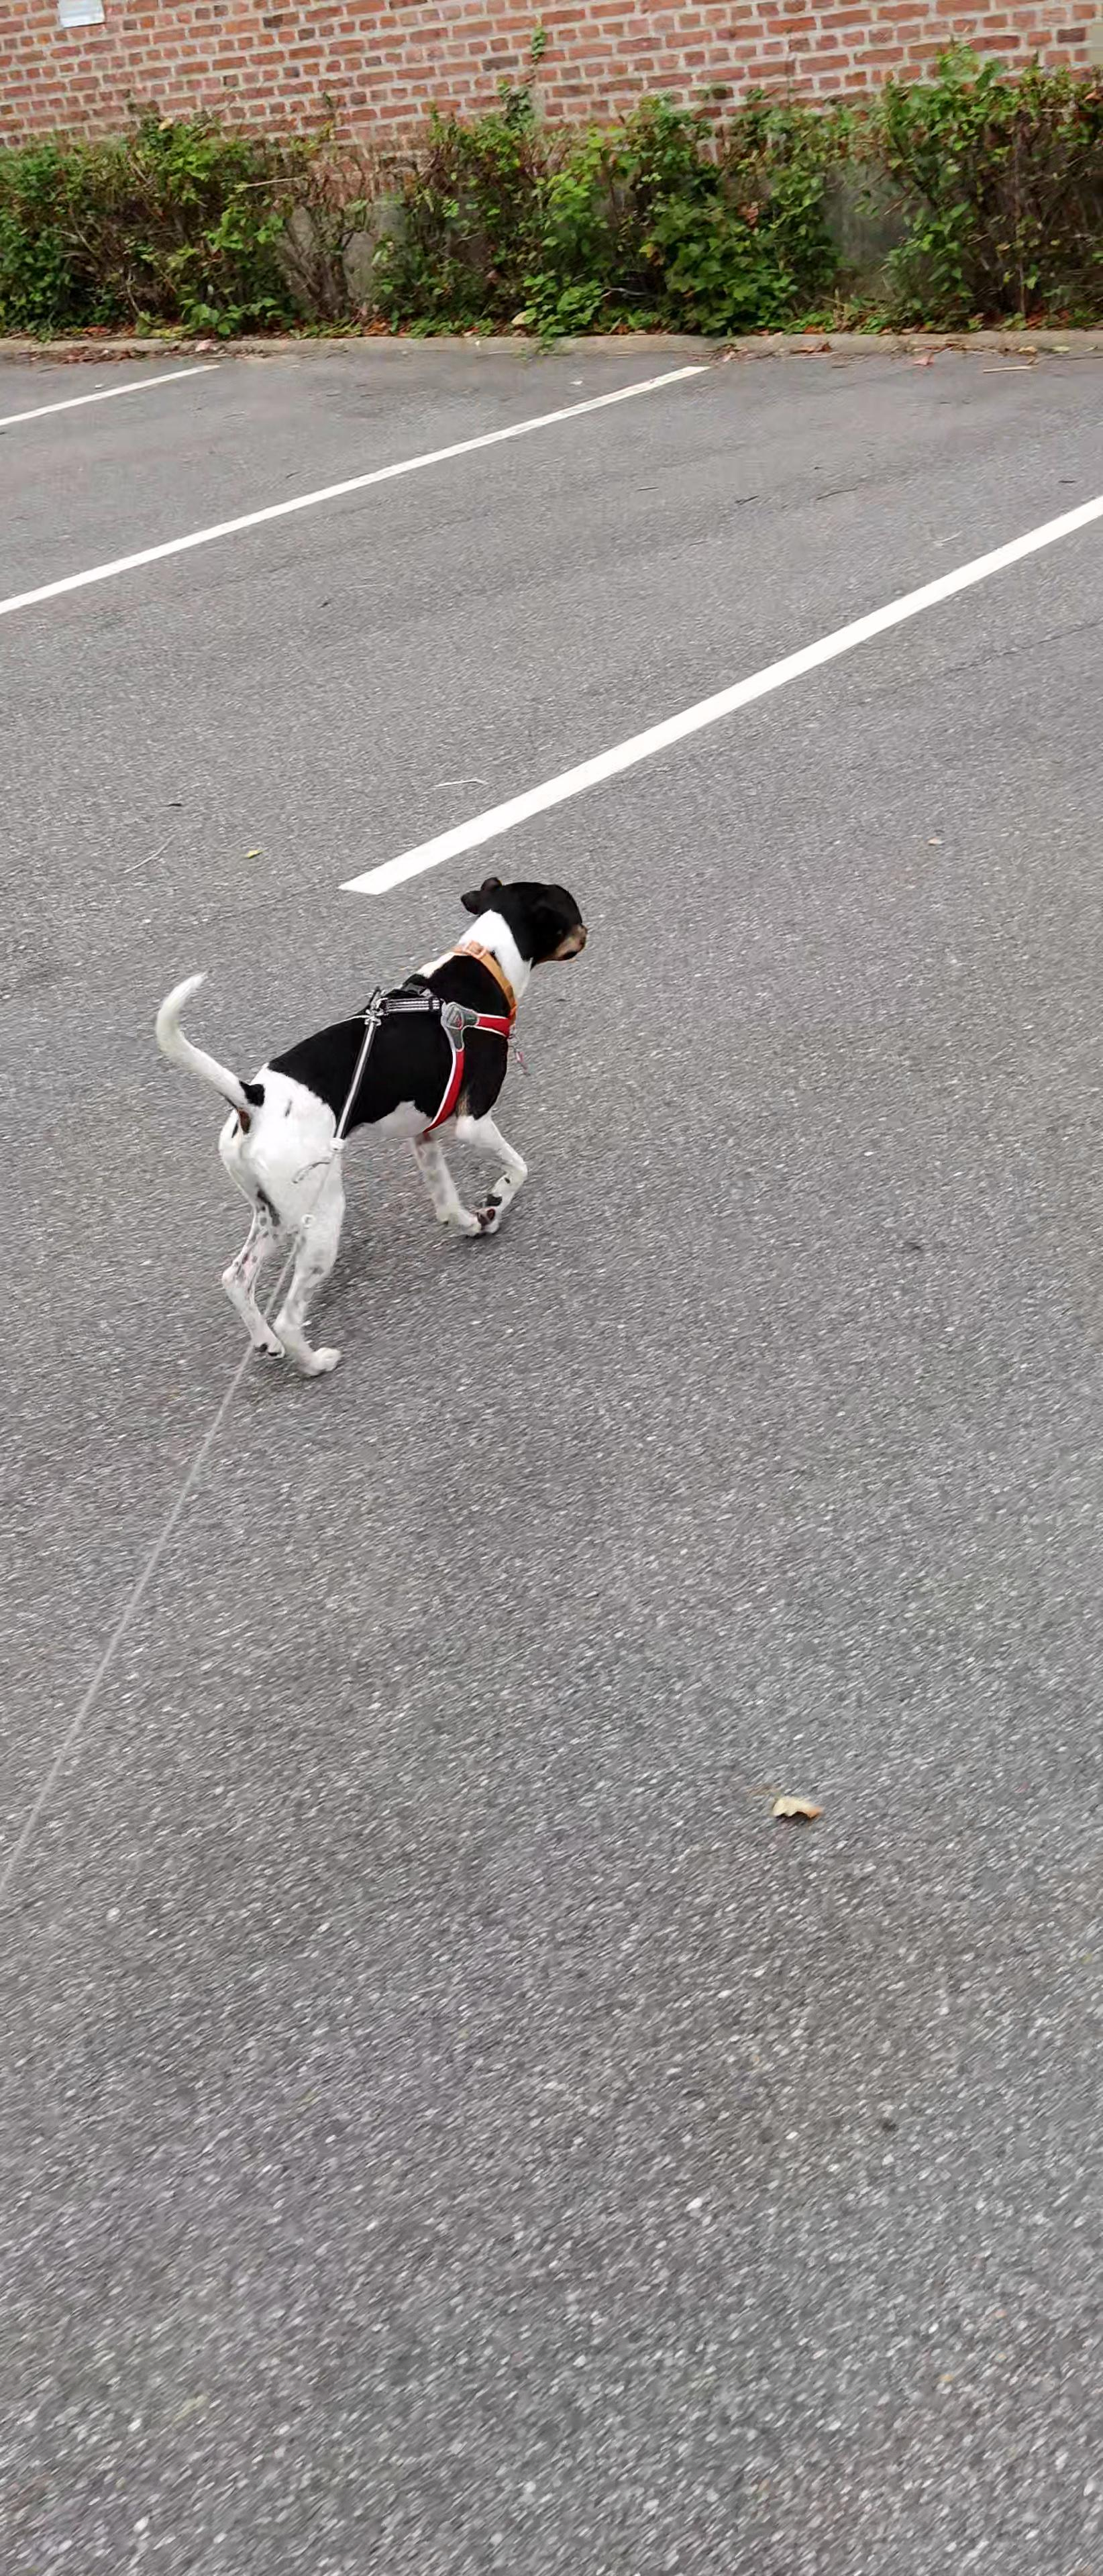Dog: (141, 859, 623, 1382)
